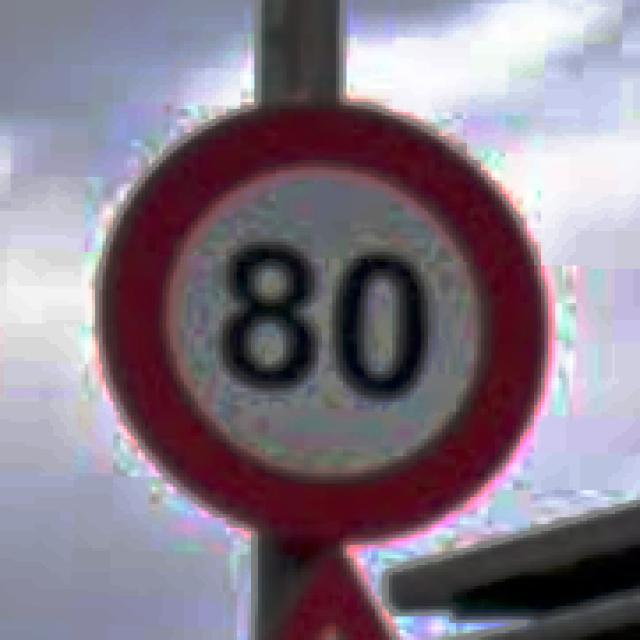max80: (96, 95, 548, 548)
